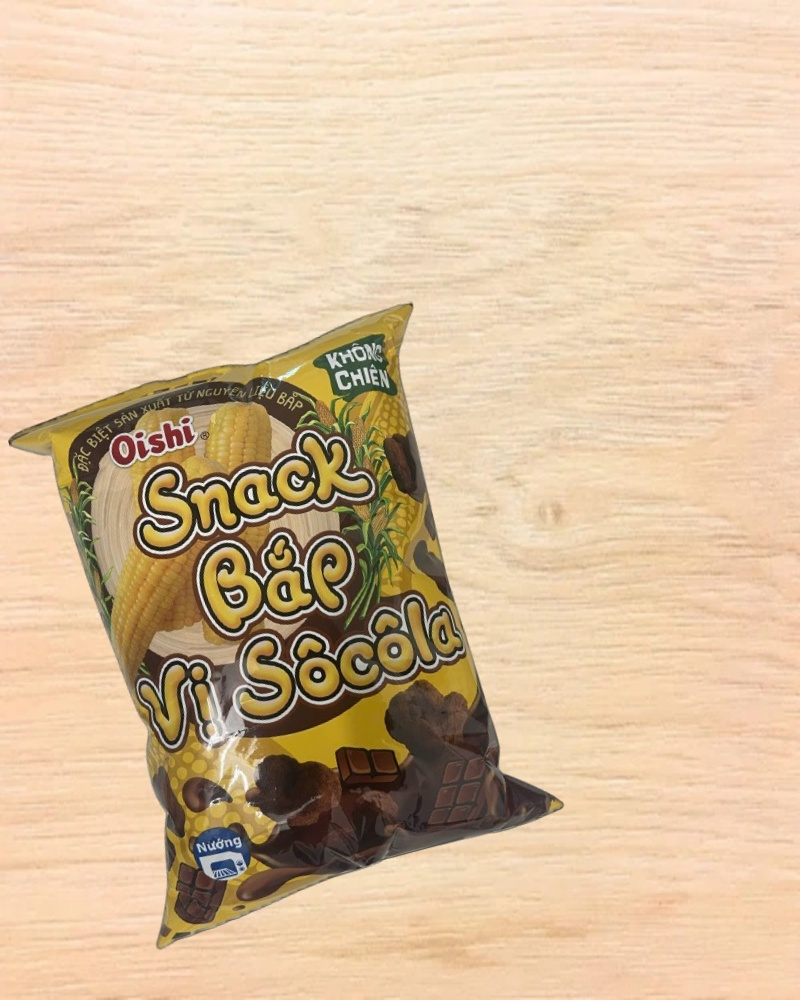Snack socola: (4, 301, 571, 941)
